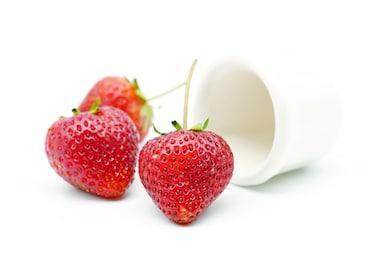Fresa: (136, 124, 239, 227), (42, 103, 140, 202)
